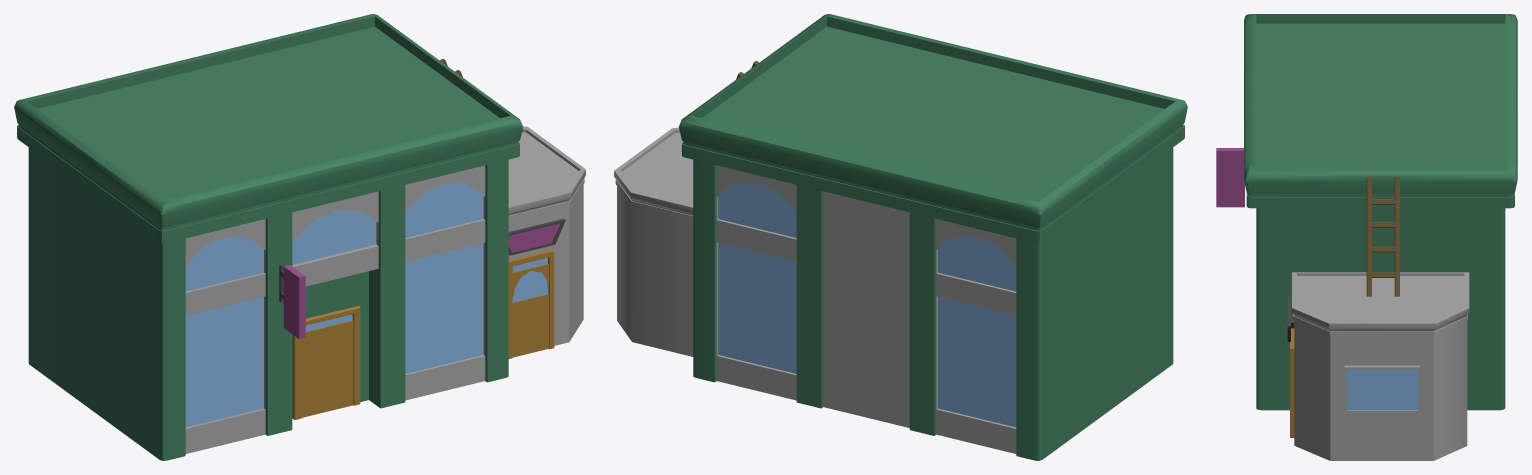
The model's file is Edificio.fbx.
The picture shows the model from 3 angles, left to right: view 1: azimuth 30°, elevation 25°; view 2: azimuth 150°, elevation 25°; view 3: azimuth 270°, elevation 25°; orthographic projection. The views are drawn at different scales.
Parts seen in each view (by area): view 1: polySurface6; view 2: polySurface6; view 3: polySurface6.
Part boxes in pixels (bbox=[...]): polySurface6: bbox=[14, 14, 585, 460]; polySurface6: bbox=[614, 14, 1187, 460]; polySurface6: bbox=[1216, 14, 1517, 460].
Bounding box in the file's own units: 2195 × 1158 × 1320.
